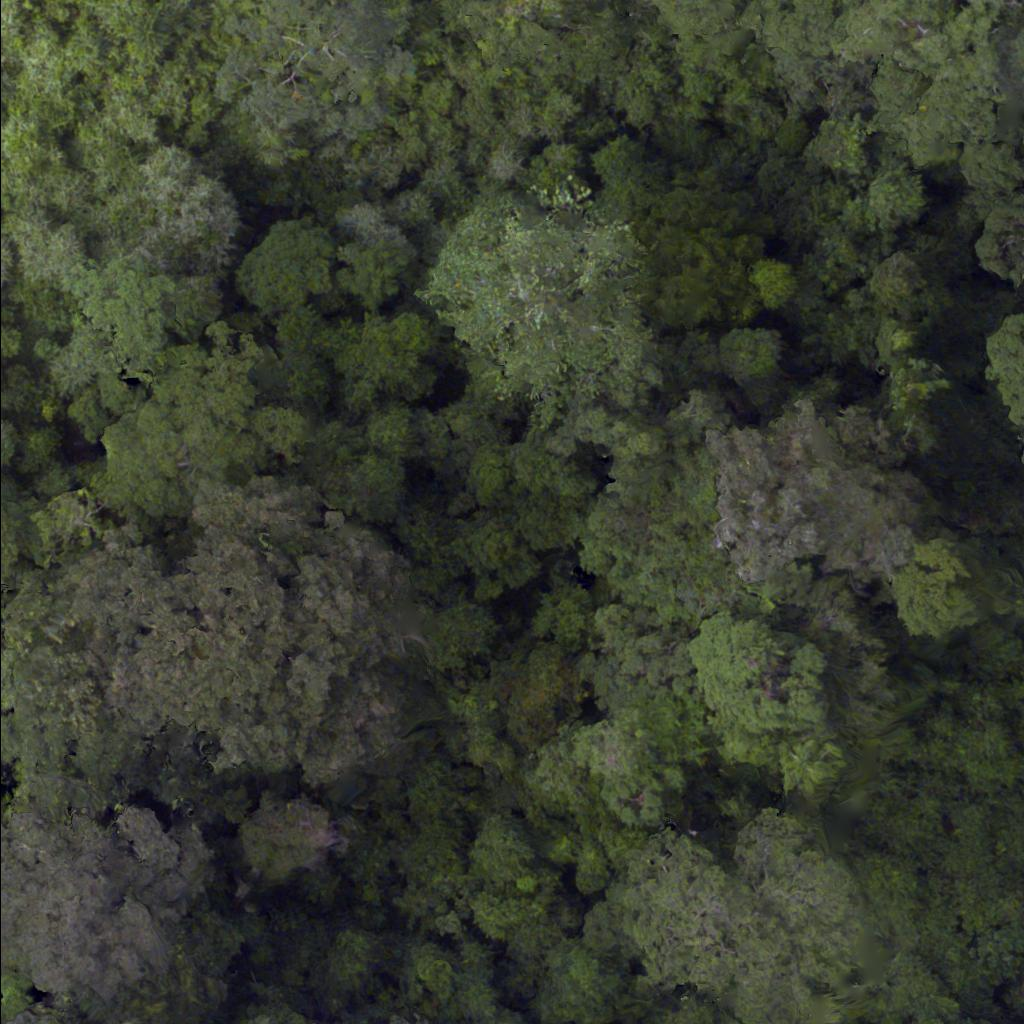crown: (113, 479, 425, 786), (592, 805, 872, 1023), (419, 188, 647, 401), (738, 0, 1023, 151), (705, 405, 930, 595), (0, 781, 199, 994), (211, 0, 413, 162), (689, 613, 835, 762), (234, 793, 357, 884), (886, 539, 989, 646), (772, 735, 850, 801), (0, 468, 45, 573), (994, 11, 1023, 111), (307, 1019, 425, 1023), (243, 1017, 283, 1023), (15, 1019, 39, 1023), (1023, 136, 1023, 146)
